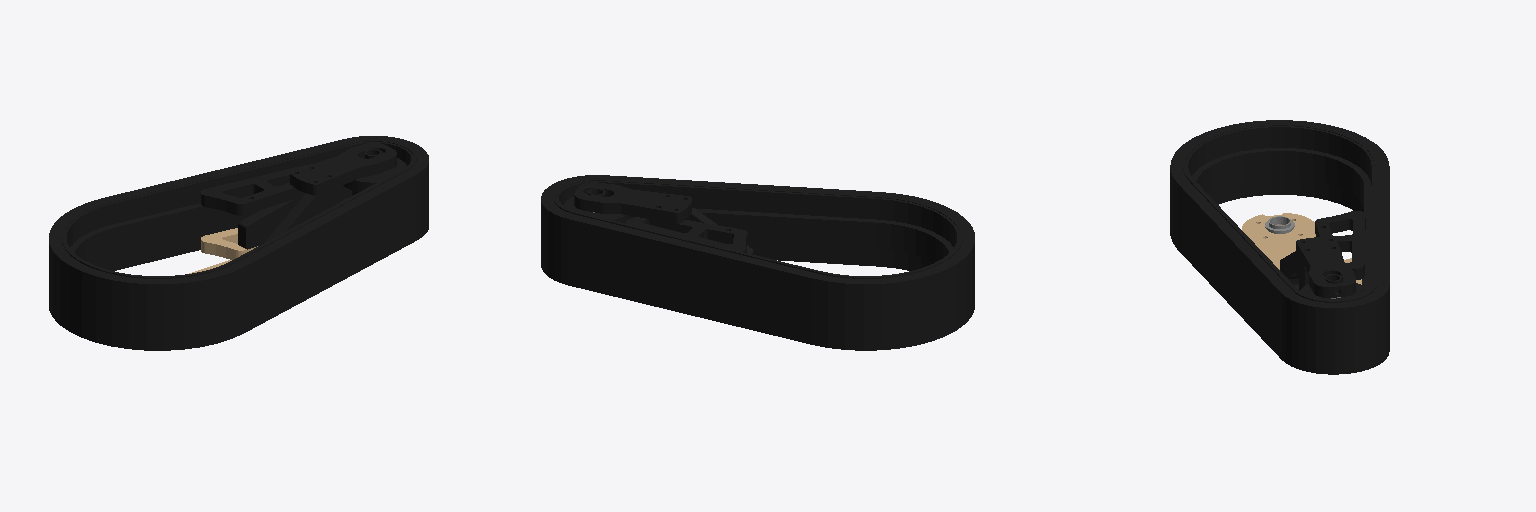
The model's file is JaguarFlipper2MinusWheel.obj.
3 views of the same model, side by side, from view 1: azimuth 30°, elevation 25°; view 2: azimuth 150°, elevation 25°; view 3: azimuth 270°, elevation 25° (orthographic).
Visible parts, largest first — view 1: default; view 2: default; view 3: default.
Boxes of the visible parts, box(x1,y1,x2,y2) form: default: box(49, 136, 428, 350); default: box(541, 175, 974, 350); default: box(1170, 120, 1389, 374).
Size of the model in its own units: 4.15 by 0.9983 by 2.05.